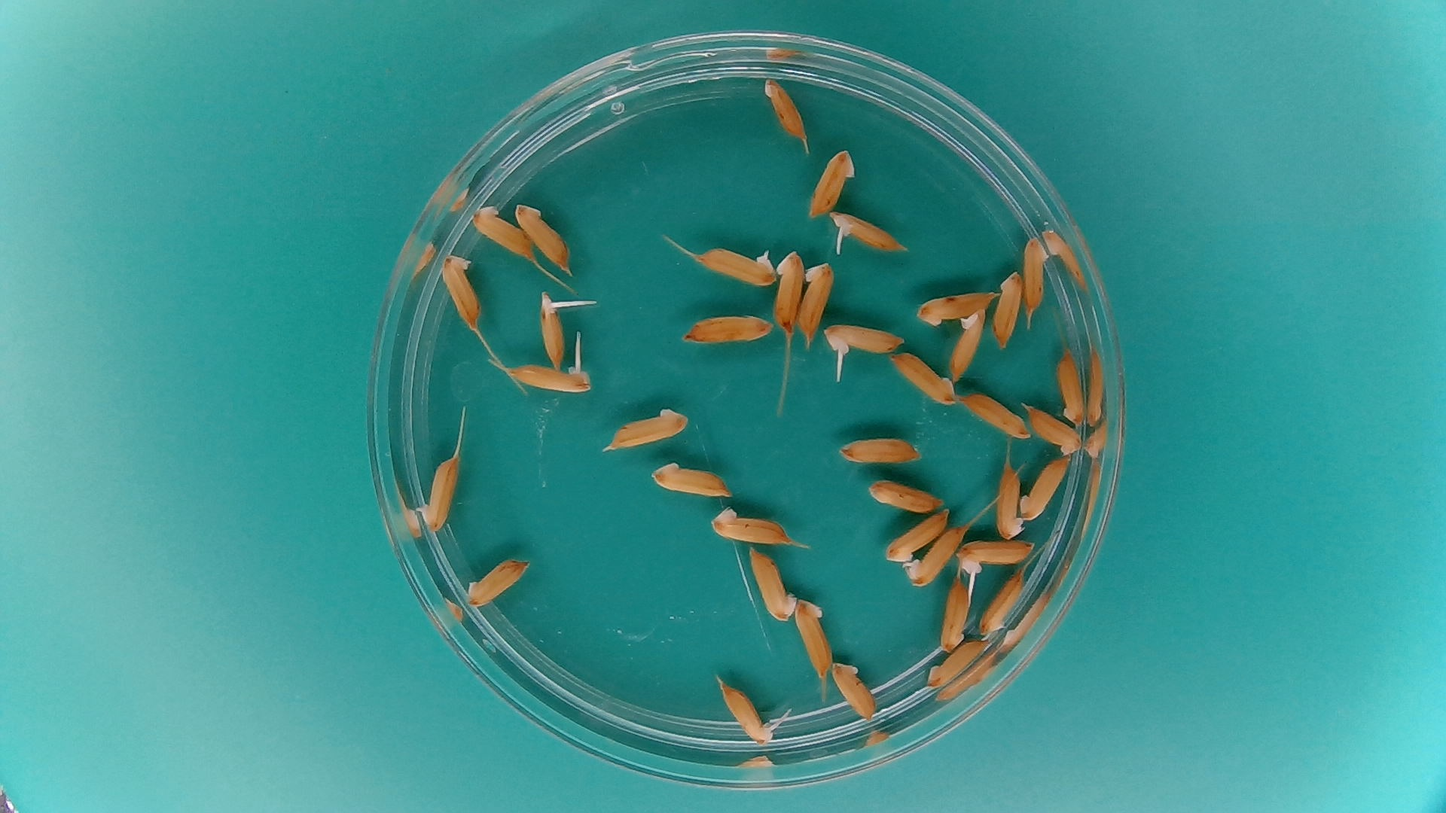no: (513, 199, 574, 276), (601, 403, 691, 453), (903, 522, 970, 589), (887, 349, 958, 407), (883, 506, 955, 563), (746, 545, 798, 623), (805, 144, 859, 218), (462, 554, 534, 609), (957, 389, 1033, 441), (470, 201, 536, 260), (708, 503, 794, 547), (678, 309, 775, 348), (438, 248, 484, 330), (647, 458, 735, 499), (923, 635, 989, 689), (912, 287, 998, 328), (793, 595, 834, 679), (979, 565, 1028, 635), (1020, 455, 1071, 522), (1023, 402, 1084, 458), (835, 431, 923, 469), (761, 73, 809, 142), (938, 568, 976, 654), (950, 307, 993, 382), (829, 660, 880, 721), (797, 257, 834, 337), (865, 476, 944, 512), (772, 248, 805, 333), (1022, 232, 1049, 333), (993, 461, 1026, 541), (993, 268, 1025, 349), (1057, 346, 1088, 428)
yes: (826, 207, 908, 256), (714, 681, 777, 741), (953, 539, 1038, 581), (695, 248, 773, 290), (820, 323, 905, 361), (507, 359, 589, 396), (423, 458, 463, 533), (538, 294, 569, 367)
